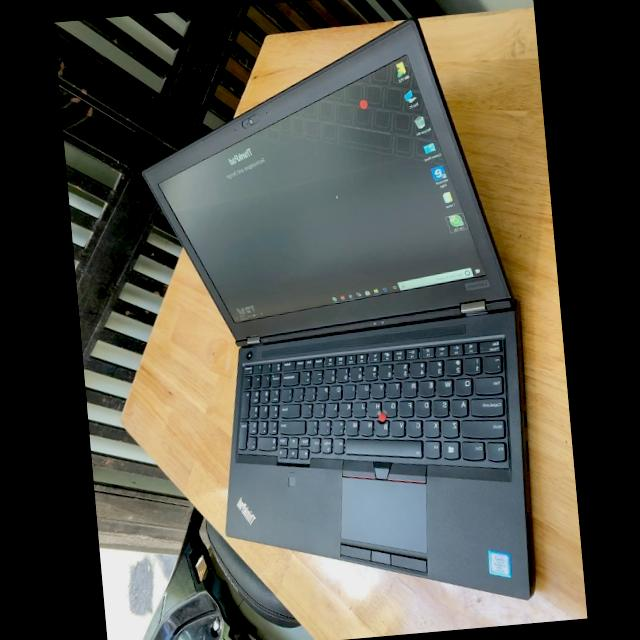laptop: (145, 20, 534, 597)
